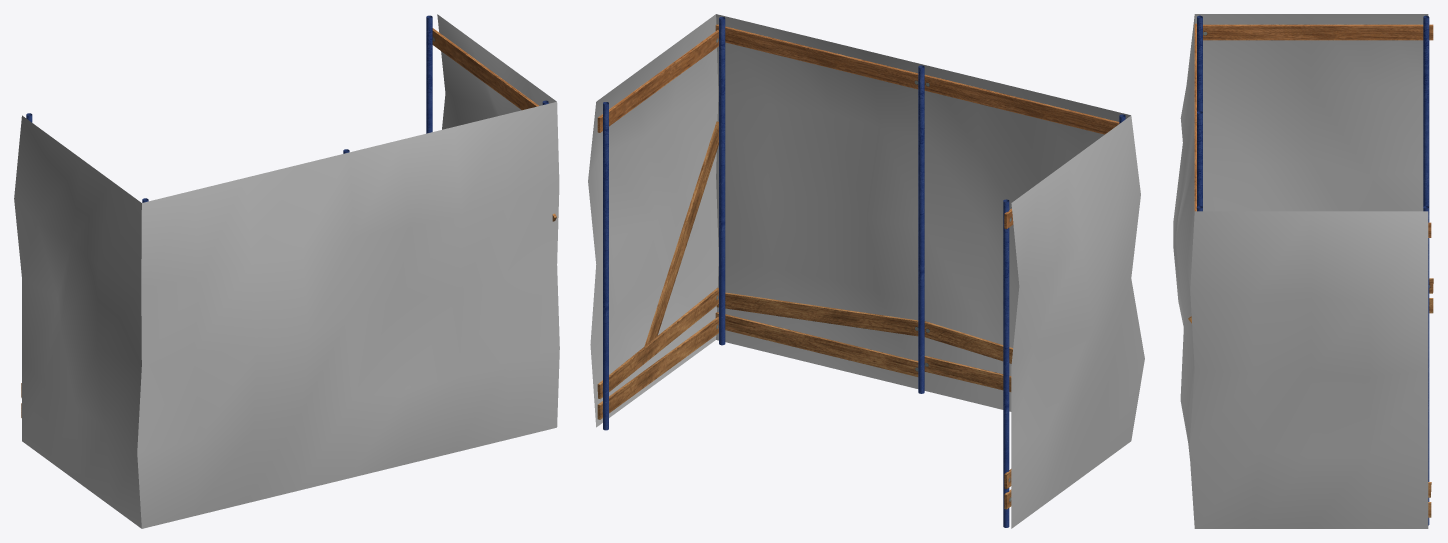
The model's file is Scaffolding_02.fbx.
3 renders of one model, left to right at view 1: azimuth 30°, elevation 25°; view 2: azimuth 150°, elevation 25°; view 3: azimuth 270°, elevation 25°, orthographic. The views are drawn at different scales.
Visible parts, largest first — view 1: Scaffolding_02_LOD0; view 2: Scaffolding_02_LOD0; view 3: Scaffolding_02_LOD0.
Part boxes in pixels (left/top/right/bottom): Scaffolding_02_LOD0: left=14, top=14, right=559, bottom=528; Scaffolding_02_LOD0: left=588, top=14, right=1144, bottom=528; Scaffolding_02_LOD0: left=1173, top=14, right=1433, bottom=528.
Size of what is drawn, in the model's own units: 446 by 300 by 223.
